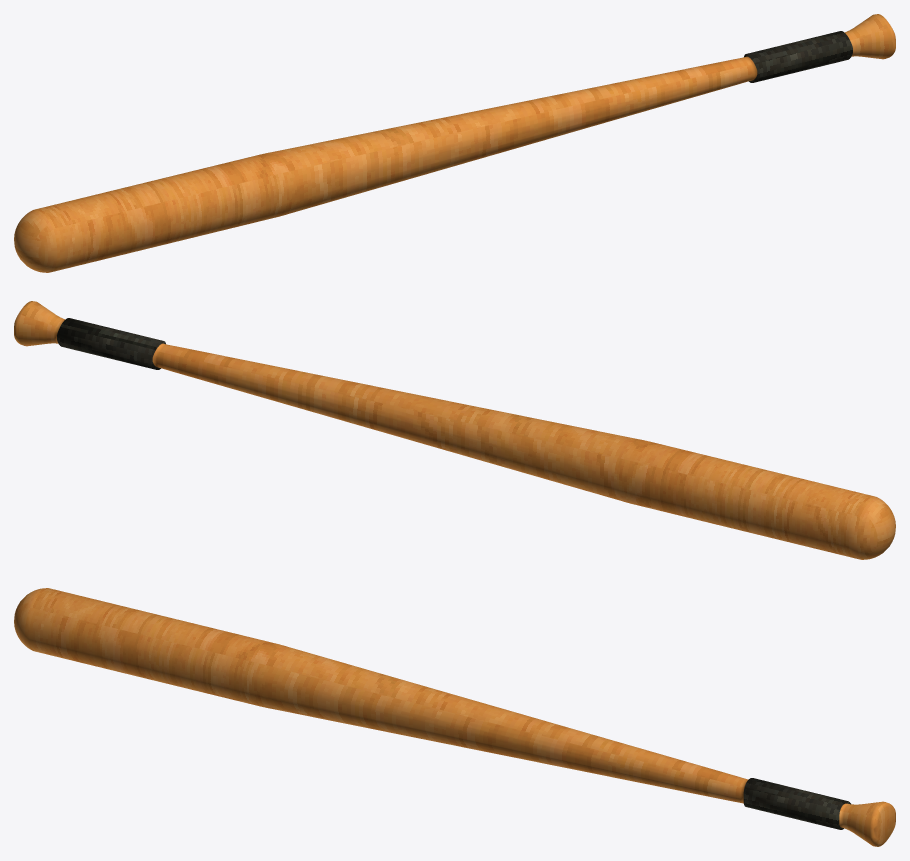
The model's file is Baseball Bat.glb.
3 renders of one model, top to bottom at view 1: azimuth 30°, elevation 25°; view 2: azimuth 150°, elevation 25°; view 3: azimuth 330°, elevation 25°, orthographic.
Parts seen in each view (by area): view 1: Sphere; view 2: Sphere; view 3: Sphere.
Part boxes in pixels (bbox=[...]): Sphere: bbox=[14, 14, 895, 272]; Sphere: bbox=[14, 301, 895, 559]; Sphere: bbox=[14, 588, 895, 846].
Size of the model in its own units: 0.9875 by 0.0639 by 0.0639.
2 materials, 2 textured.
